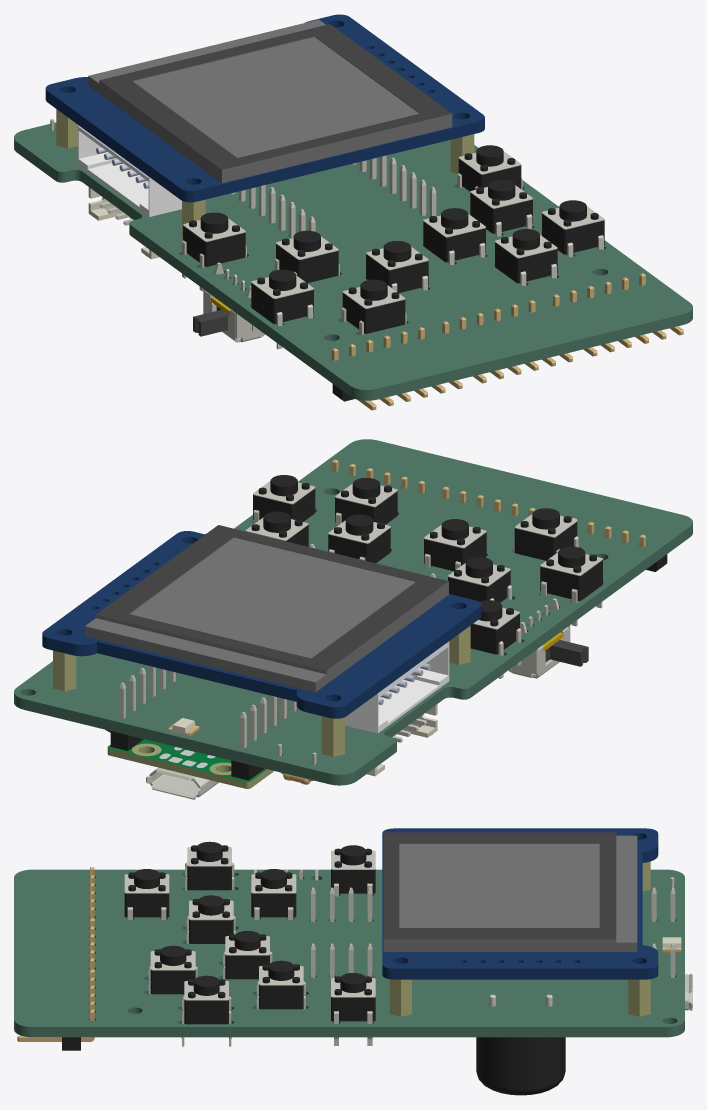
Rendered from vgc-zero.glb.
3 views of the same model, one above another, from view 1: azimuth 30°, elevation 25°; view 2: azimuth 150°, elevation 25°; view 3: azimuth 270°, elevation 25° (orthographic). The views are drawn at different scales.
Visible parts, largest first — view 1: =>[0:1:1:25], 1_5INCH-RGB-OLED, =>[0:1:1:3] (×10), 1_5INCH_OLED_RGB_PCBA, RaspberryPi_Pico_H_Header_DIP-40_H2.54mm_KiCad, =>[0:1:1:22] (×3), =>[0:1:1:20], M2XH6_COPPER-POST (×2), =>[0:1:1:24]; view 2: =>[0:1:1:25], 1_5INCH-RGB-OLED, =>[0:1:1:3] (×9), 1_5INCH_OLED_RGB_PCBA, RaspberryPi_Pico_H_Module_KiCad, RaspberryPi_Pico_H_Header_DIP-40_H2.54mm_KiCad, M2XH6_COPPER-POST (×3), =>[0:1:1:20], =>[0:1:1:24]; view 3: =>[0:1:1:25], 1_5INCH-RGB-OLED, =>[0:1:1:3] (×10), 1_5INCH_OLED_RGB_PCBA, =>[0:1:1:12], RaspberryPi_Pico_H_Header_DIP-40_H2.54mm_KiCad, M2XH6_COPPER-POST (×2), =>[0:1:1:22].
Boxes of the visible parts, x1,y1,x2,y2 form: =>[0:1:1:25]: [14, 122, 692, 400]; 1_5INCH-RGB-OLED: [88, 19, 452, 183]; =>[0:1:1:3] (×10): [182, 145, 604, 349]; 1_5INCH_OLED_RGB_PCBA: [45, 14, 484, 216]; RaspberryPi_Pico_H_Header_DIP-40_H2.54mm_KiCad: [230, 155, 436, 237]; =>[0:1:1:22] (×3): [331, 273, 683, 410]; =>[0:1:1:20]: [193, 262, 264, 342]; M2XH6_COPPER-POST (×2): [56, 109, 474, 173]; =>[0:1:1:24]: [88, 187, 159, 259]; =>[0:1:1:25]: [14, 439, 692, 785]; 1_5INCH-RGB-OLED: [85, 525, 448, 692]; =>[0:1:1:3] (×9): [246, 475, 602, 678]; 1_5INCH_OLED_RGB_PCBA: [42, 531, 481, 733]; RaspberryPi_Pico_H_Module_KiCad: [107, 739, 273, 799]; RaspberryPi_Pico_H_Header_DIP-40_H2.54mm_KiCad: [110, 544, 436, 780]; M2XH6_COPPER-POST (×3): [53, 625, 470, 756]; =>[0:1:1:20]: [508, 598, 588, 678]; =>[0:1:1:24]: [367, 704, 437, 776]; =>[0:1:1:25]: [14, 869, 684, 1037]; 1_5INCH-RGB-OLED: [383, 832, 637, 951]; =>[0:1:1:3] (×10): [124, 841, 375, 1046]; 1_5INCH_OLED_RGB_PCBA: [382, 828, 658, 979]; =>[0:1:1:12]: [476, 994, 565, 1095]; RaspberryPi_Pico_H_Header_DIP-40_H2.54mm_KiCad: [311, 887, 675, 977]; M2XH6_COPPER-POST (×2): [389, 979, 650, 1016]; =>[0:1:1:22]: [17, 969, 94, 1050].
Size of the model in its own units: 0.0535 by 0.0205 by 0.0911.
